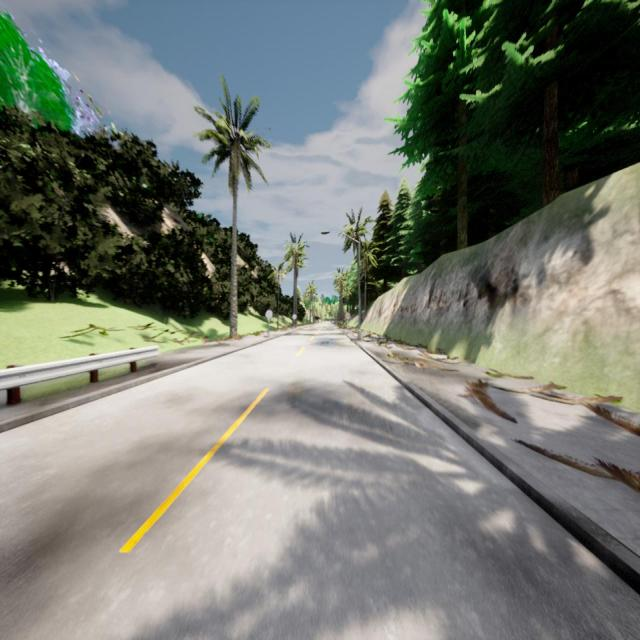Traffic_Signs: (265, 310, 273, 318), (345, 312, 351, 319), (292, 314, 297, 320)
